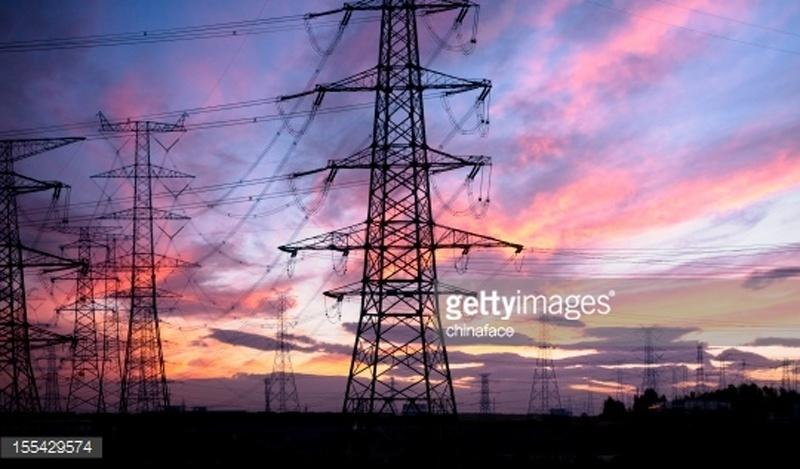power_tower: (292, 10, 503, 419), (92, 114, 217, 419), (9, 117, 77, 425)
